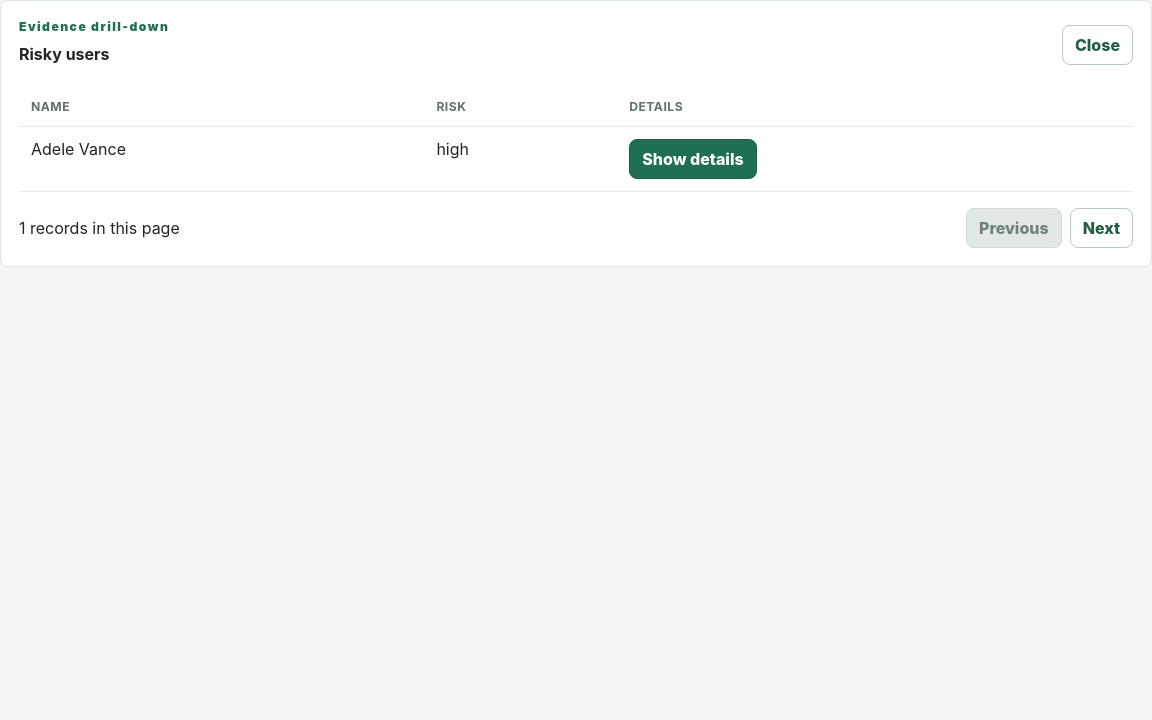
it: PaginatedEvidenceTable › loads pages, supports cursor previous/next navigation, and opens raw details
The image size is (1152, 720).
Expected: the text "Adele Vance" is shown, x1=19 y1=126 x2=424 y2=192
Step 1. Click the button with aria-label "Show details for Adele Vance" → (693, 159), box x1=629 y1=139 x2=757 y2=179
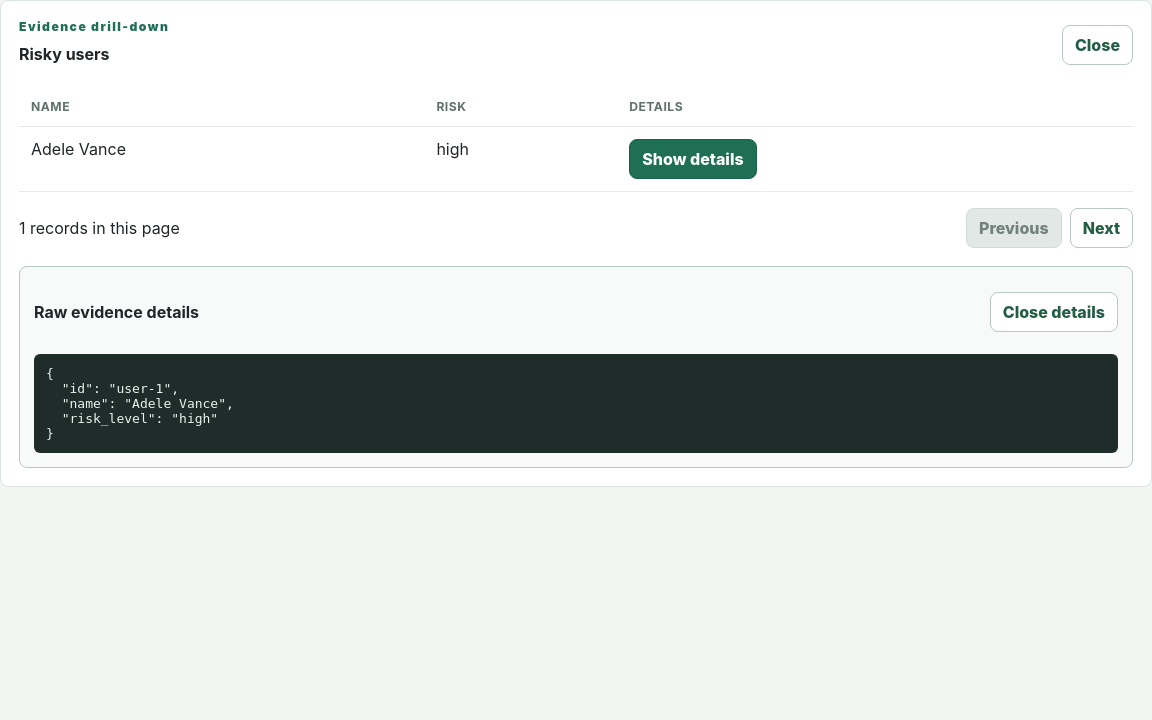
Expected: the dialog shows "\"risk_level\": \"high\"", x1=46 y1=366 x2=234 y2=440
Step 2. Click the button "Close details" → (1054, 312), box x1=990 y1=292 x2=1118 y2=332
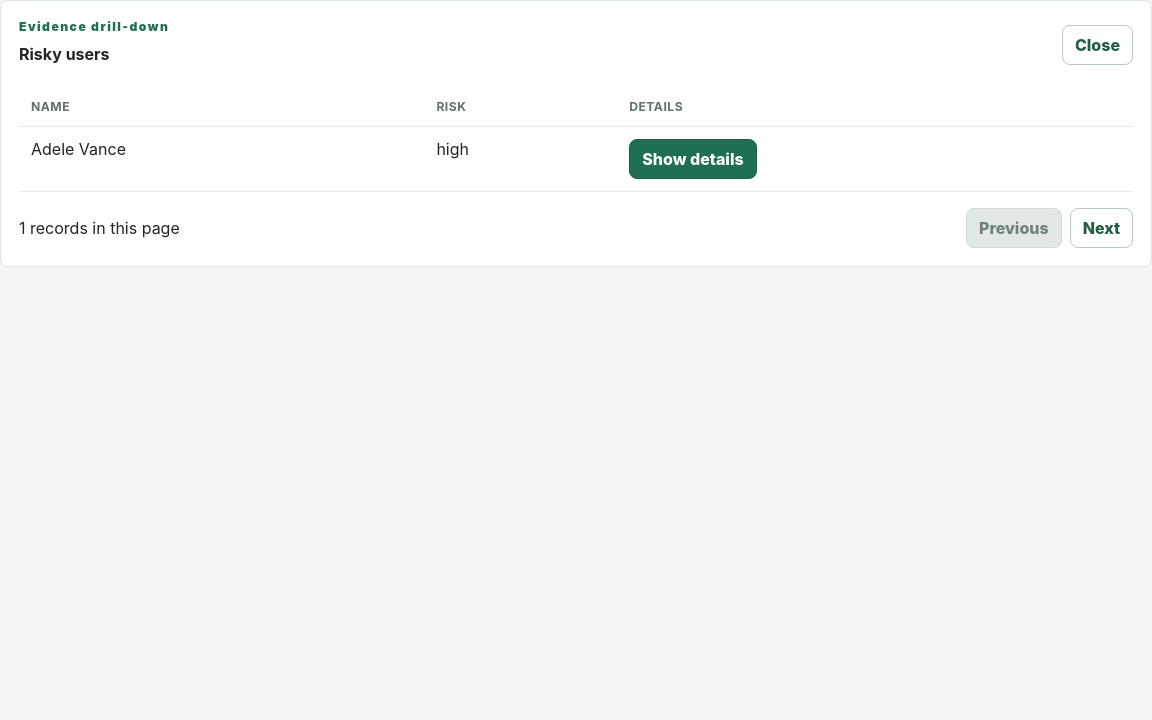
Step 3. Click the button "Next" → (1101, 228), box x1=1070 y1=208 x2=1133 y2=248
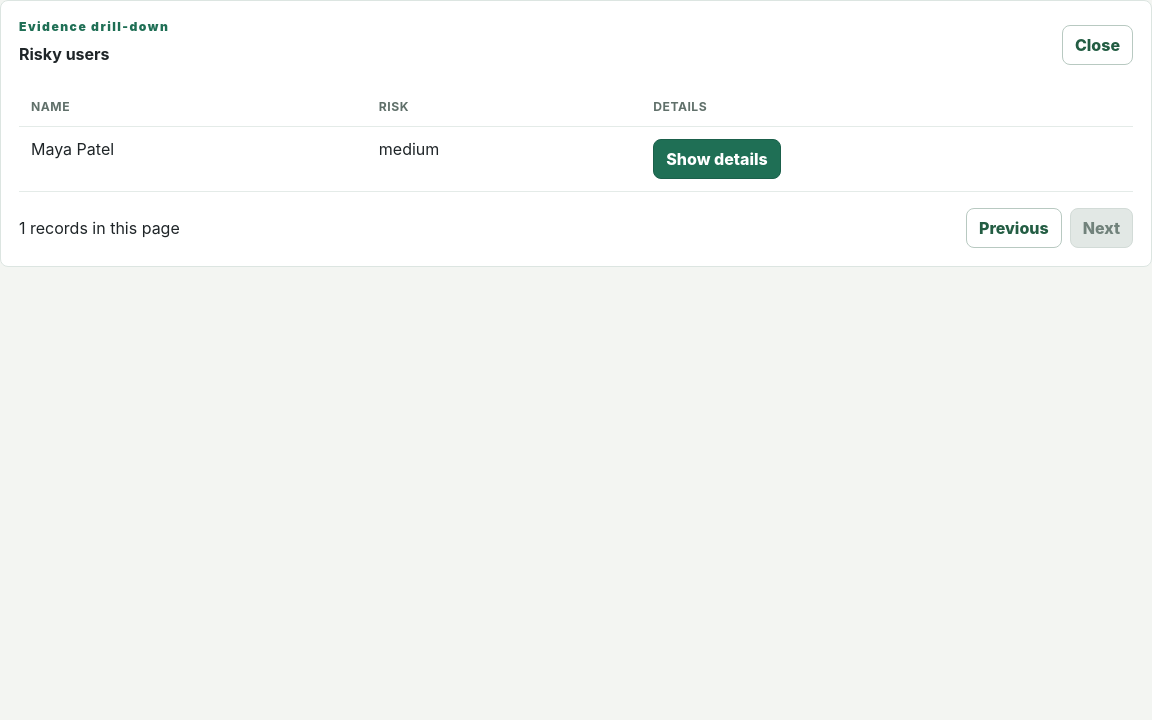
Expected: the text "Maya Patel" is shown, x1=19 y1=126 x2=367 y2=192
Step 4. Click the button "Previous" → (1014, 228), box x1=966 y1=208 x2=1062 y2=248
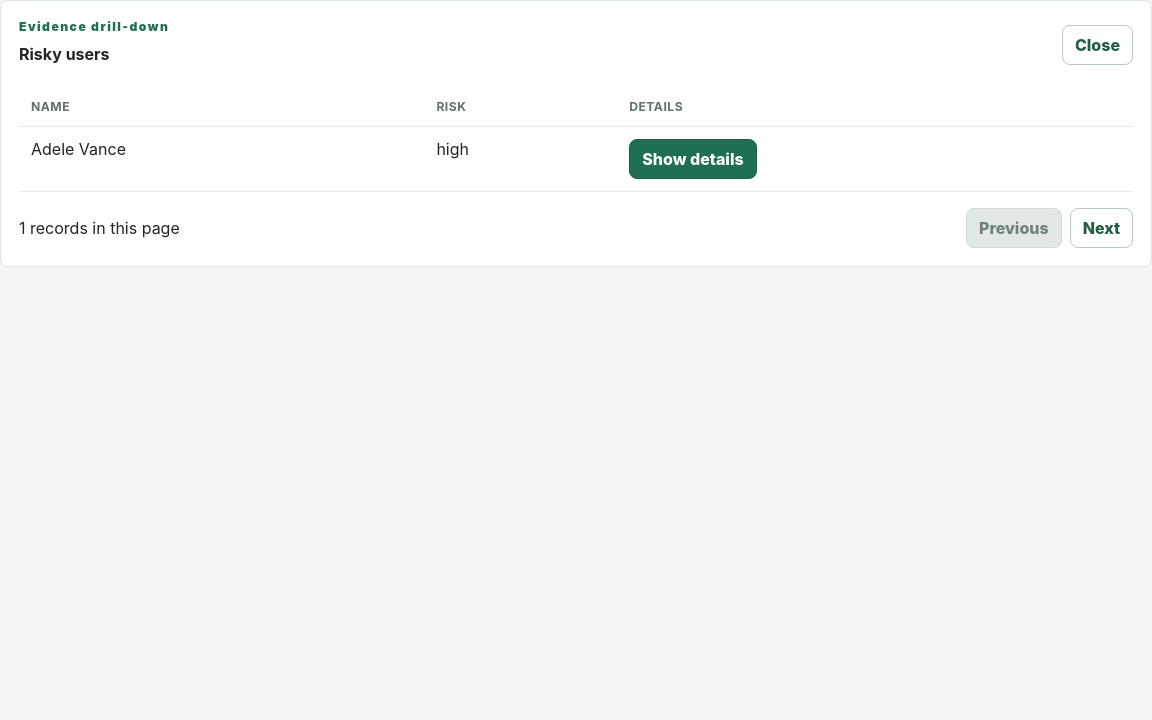
Expected: the text "Adele Vance" is shown, x1=19 y1=126 x2=424 y2=192
